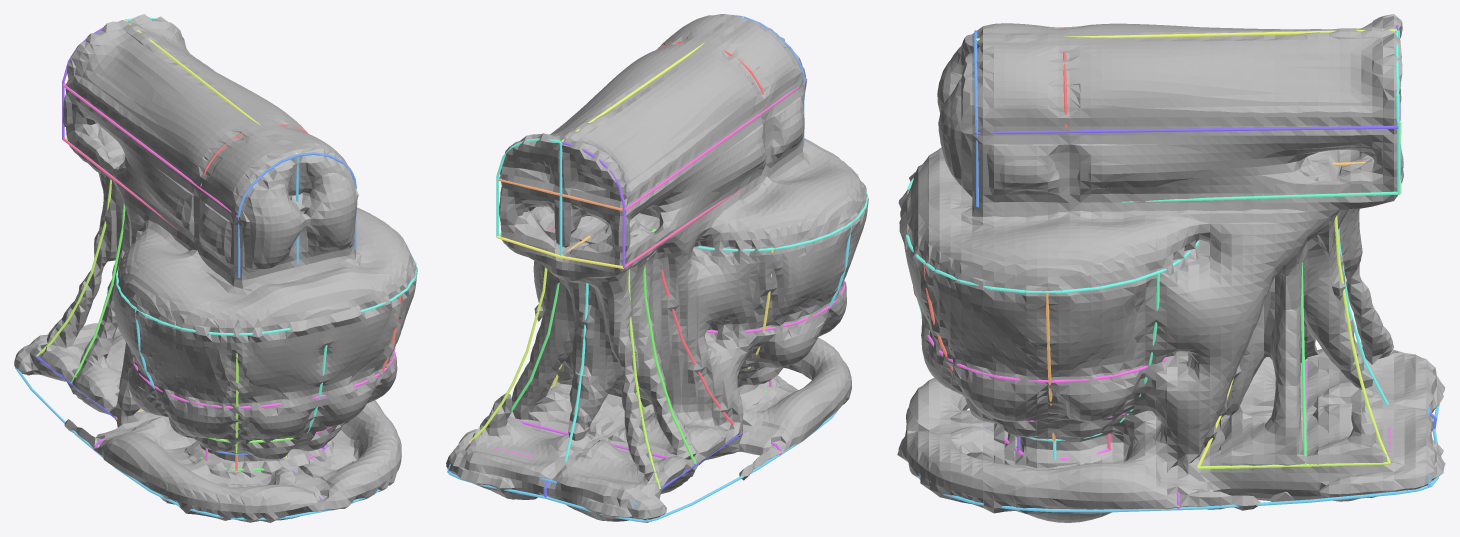
The model's file is t2f_blender.gltf.
3 renders of one model, left to right at view 1: azimuth 30°, elevation 25°; view 2: azimuth 150°, elevation 25°; view 3: azimuth 270°, elevation 25°, orthographic. The views are drawn at different scales.
Size of the model in its own units: 0.4713 by 0.65 by 0.6885.
